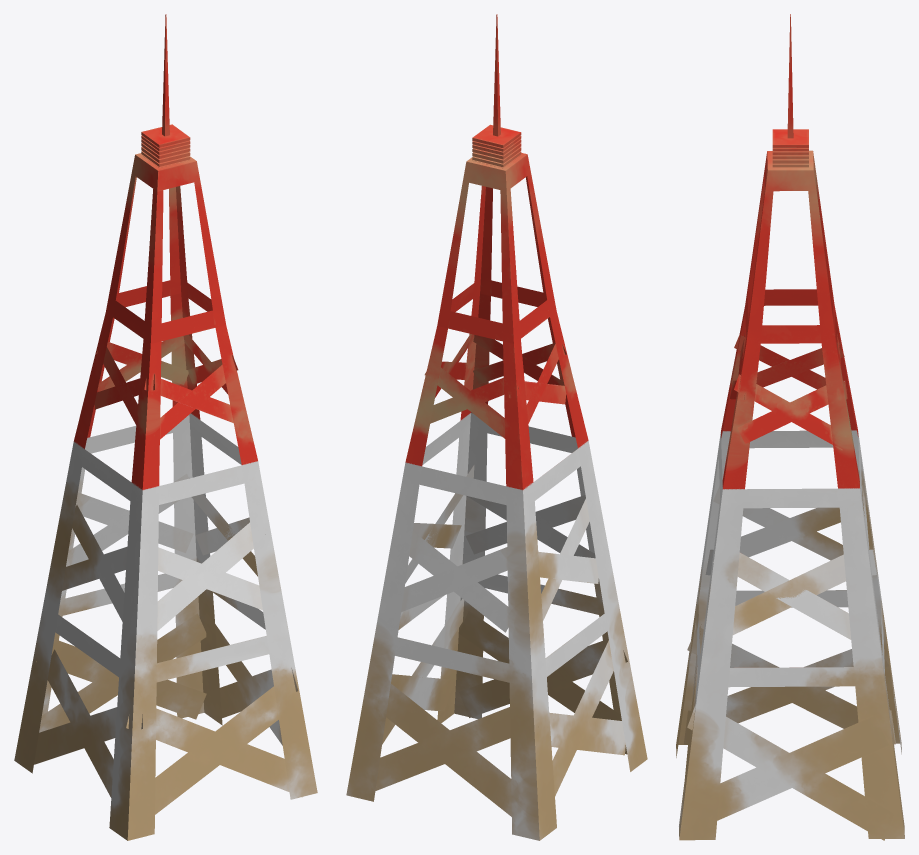
File: OBJ_Antena.fbx
3 views of the same model, side by side, from view 1: azimuth 30°, elevation 25°; view 2: azimuth 150°, elevation 25°; view 3: azimuth 270°, elevation 25° (orthographic).
Visible parts, largest first — view 1: antena; view 2: antena; view 3: antena.
Part boxes in pixels (x1,y1,x2,y2): antena: [14, 14, 317, 840]; antena: [346, 14, 647, 840]; antena: [676, 14, 904, 840].
Size of the model in its own units: 203 by 761 by 203.
